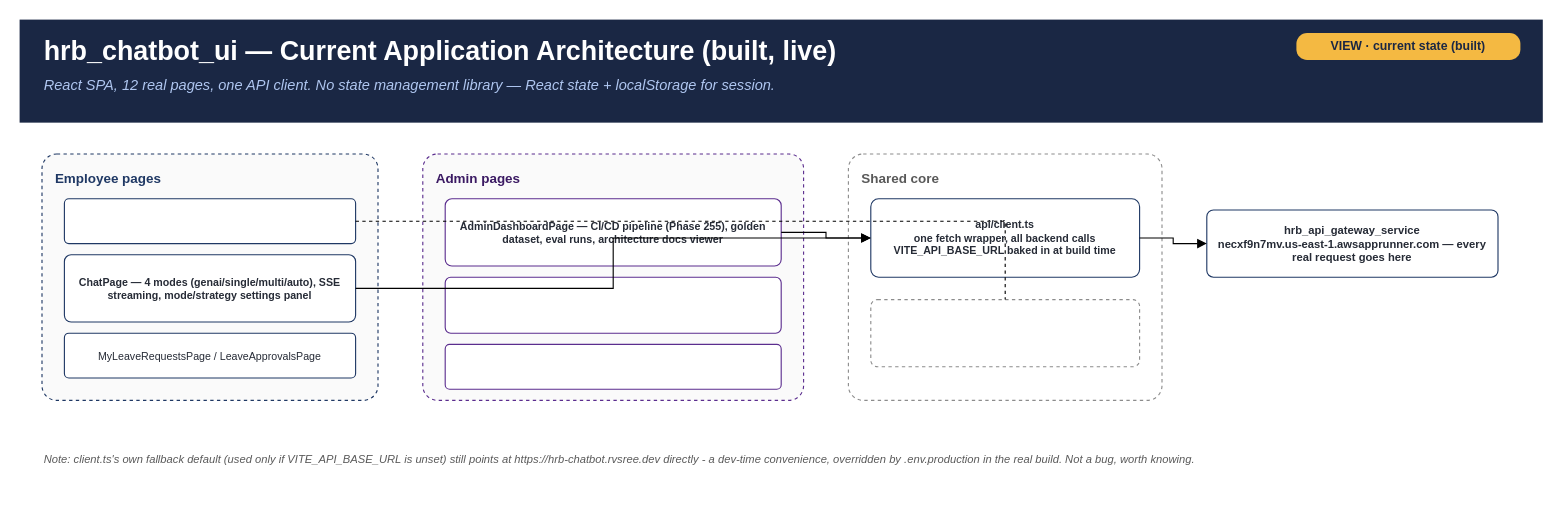
Some shapes in this 1561 by 508 pixel diagram are drawn without their labels. Each missing label, with the centre of its shape:
"DocumentsPage / UploadPage — KB document management" belongs at point (612, 304).
"FaqPage / FaqReviewPage / ViewFeedbackPage / OpenDocPage / ResetSecretCodePage" belongs at point (612, 366).
"localStorage session identity, remembered settings" belongs at point (1005, 332).
"LoginPage" belongs at point (209, 221).
